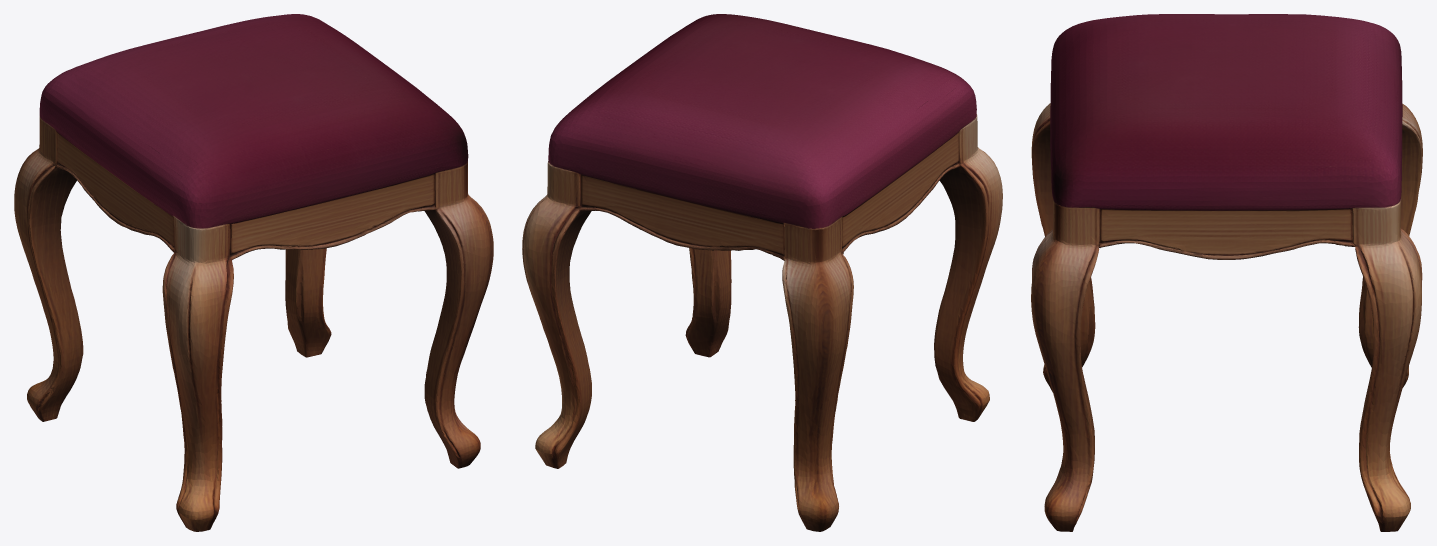
The model's file is stool_ornate.glb.
3 renders of one model, left to right at view 1: azimuth 30°, elevation 25°; view 2: azimuth 150°, elevation 25°; view 3: azimuth 270°, elevation 25°, orthographic. The views are drawn at different scales.
Parts seen in each view (by area): view 1: world; view 2: world; view 3: world.
Boxes of the visible parts, <box> form: world: <box>14,14,493,531</box>; world: <box>522,14,1002,531</box>; world: <box>1031,14,1422,531</box>.
Bounding box in the file's own units: 0.8846 × 0.9996 × 0.8864.
1 material, 1 textured.
